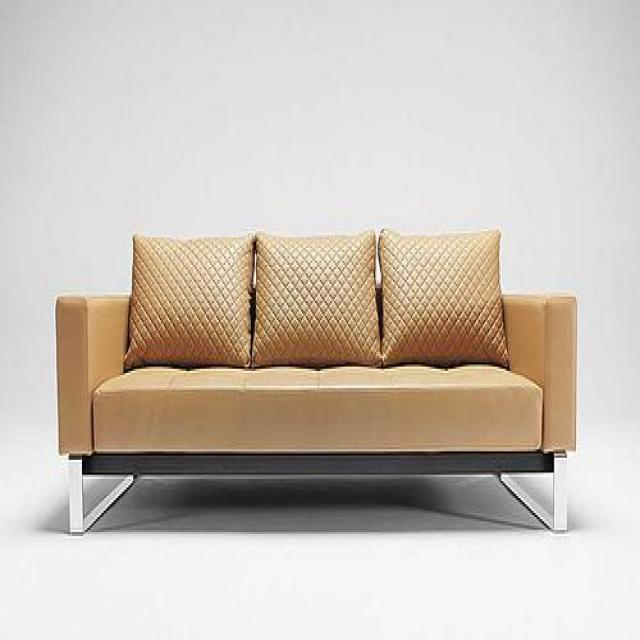sofa: (57, 226, 579, 536)
